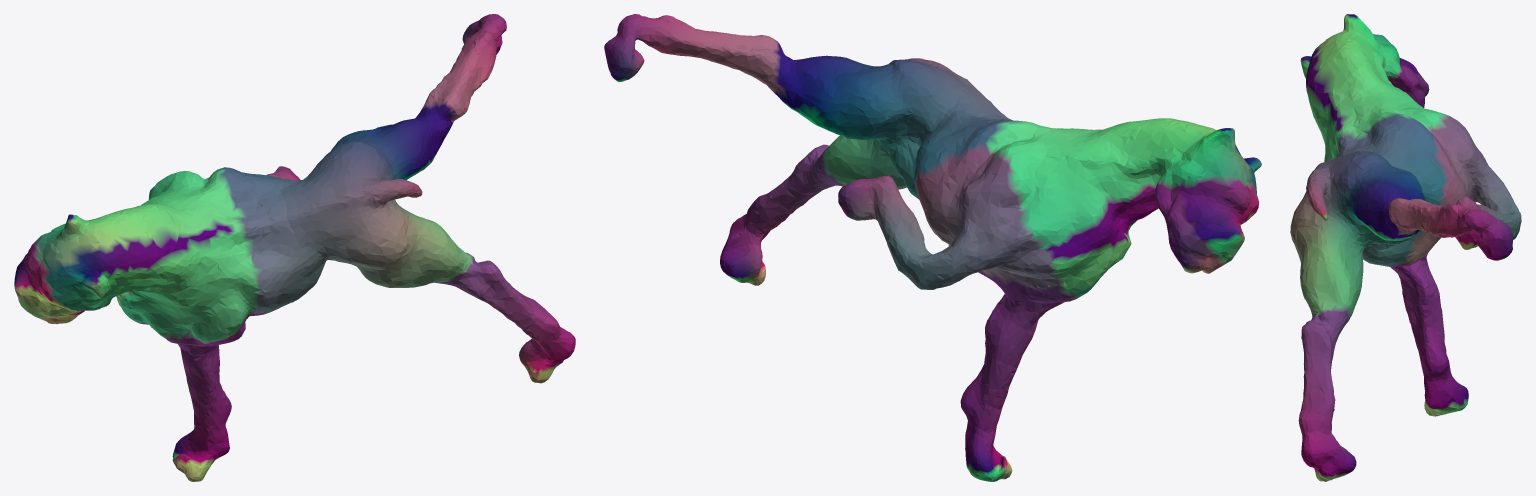
The model's file is dog1-6.off.obj.
3 views of the same model, side by side, from view 1: azimuth 30°, elevation 25°; view 2: azimuth 150°, elevation 25°; view 3: azimuth 270°, elevation 25° (orthographic). The views are drawn at different scales.
Size of the model in its own units: 1.54 by 1.01 by 0.5967.
